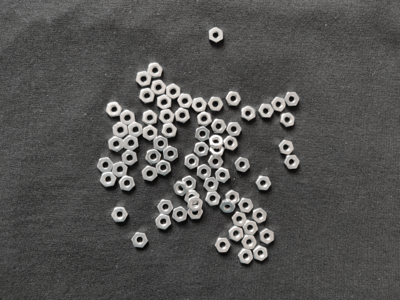nut: (112, 207, 129, 223), (119, 176, 136, 192), (100, 172, 117, 188), (123, 135, 139, 152), (238, 249, 254, 265), (238, 198, 254, 214), (278, 140, 294, 156), (112, 162, 128, 178), (122, 150, 138, 166), (142, 166, 158, 182), (146, 149, 162, 165), (120, 110, 136, 126), (106, 102, 122, 118), (175, 108, 191, 124), (136, 71, 152, 87), (253, 245, 268, 262), (97, 158, 114, 173), (143, 125, 158, 142), (148, 62, 163, 79), (209, 27, 224, 44), (215, 238, 231, 253), (252, 208, 267, 224), (132, 233, 148, 248), (173, 207, 188, 223), (158, 200, 174, 215), (188, 205, 204, 220), (185, 190, 201, 205), (174, 181, 189, 197), (204, 177, 220, 192), (235, 157, 250, 173), (284, 155, 300, 170), (197, 164, 212, 180), (185, 154, 200, 170), (109, 137, 124, 153), (156, 160, 171, 176), (208, 135, 224, 150), (195, 126, 210, 142), (211, 119, 227, 134), (208, 97, 224, 112), (113, 123, 129, 138), (143, 110, 158, 126), (140, 88, 155, 104), (166, 84, 181, 100), (151, 80, 167, 95), (242, 235, 257, 250), (259, 229, 274, 244), (229, 227, 244, 242), (243, 221, 258, 236), (232, 212, 247, 227), (156, 215, 171, 230), (182, 176, 197, 191), (225, 190, 240, 205), (206, 192, 221, 207), (256, 176, 271, 191), (280, 113, 295, 128), (215, 168, 230, 183), (224, 136, 239, 151), (227, 122, 242, 137), (271, 97, 286, 112), (226, 92, 241, 107), (197, 112, 212, 127), (192, 98, 207, 113), (162, 124, 177, 139), (160, 109, 175, 124), (178, 94, 193, 109), (189, 197, 203, 213), (220, 200, 236, 214), (164, 146, 178, 162), (208, 155, 224, 169), (154, 136, 168, 152), (129, 122, 143, 138), (285, 93, 300, 107), (259, 104, 274, 118), (242, 106, 256, 121), (158, 95, 172, 110), (195, 143, 209, 157), (210, 145, 225, 158)
